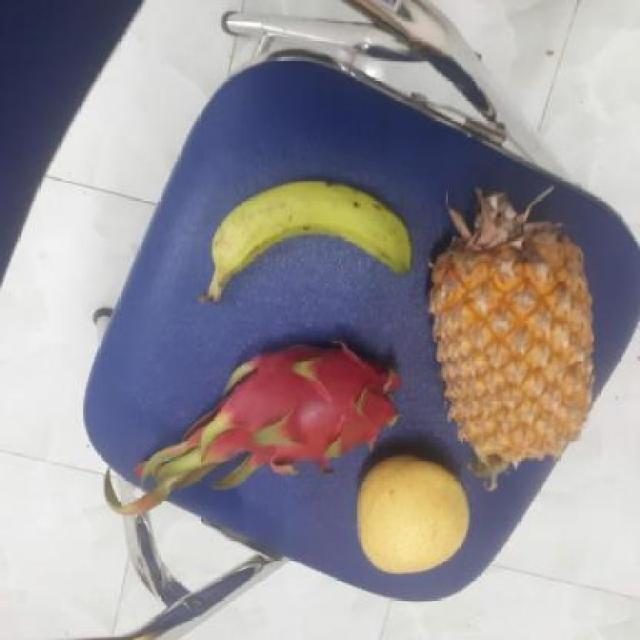banana: (198, 180, 410, 305)
dragon fruit: (204, 336, 398, 473)
pear: (351, 456, 474, 572)
sugar apple: (427, 207, 593, 476)
